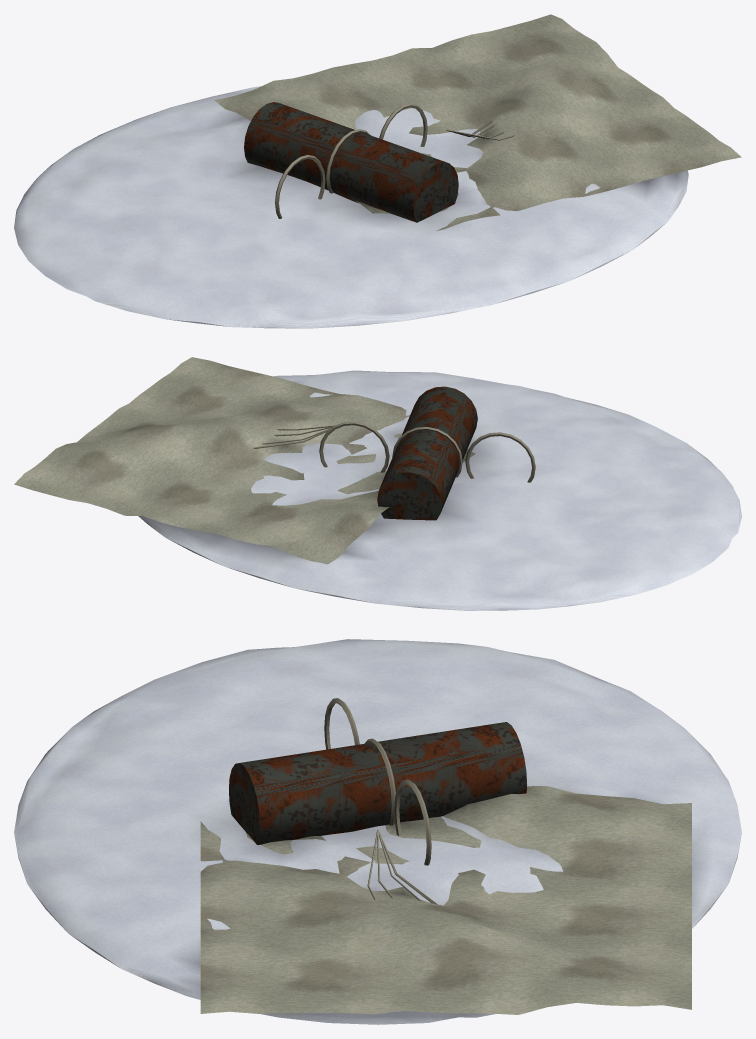
The model's file is supply_chute.glb.
3 views of the same model, one above another, from view 1: azimuth 30°, elevation 25°; view 2: azimuth 150°, elevation 25°; view 3: azimuth 270°, elevation 25° (orthographic). The views are drawn at different scales.
Visible parts, largest first — view 1: Supply_Chute_Canister; view 2: Supply_Chute_Canister; view 3: Supply_Chute_Canister.
Boxes of the visible parts, x1=… form: Supply_Chute_Canister: x1=14, y1=14, x2=741, y2=328; Supply_Chute_Canister: x1=14, y1=357, x2=741, y2=610; Supply_Chute_Canister: x1=14, y1=639, x2=741, y2=1024.
Bounding box in the file's own units: 4.1 × 0.4379 × 3.2.
Materials: 4 (3 with a texture image).
